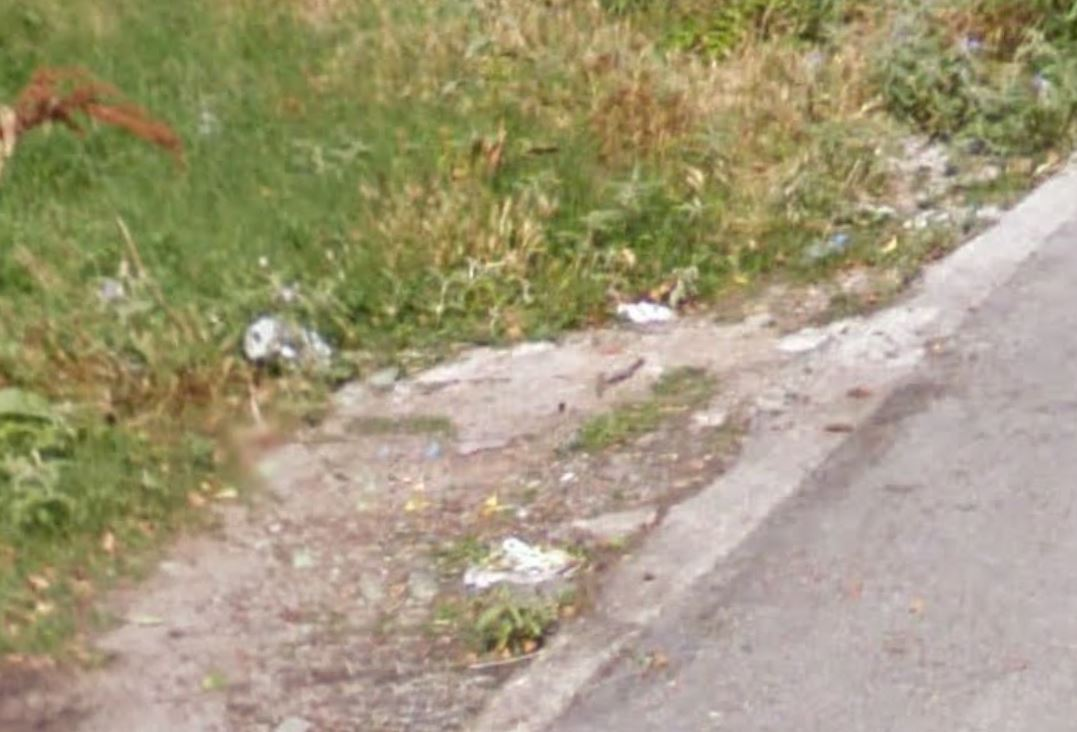trash: (222, 291, 342, 380), (461, 523, 585, 594), (606, 287, 685, 332)
